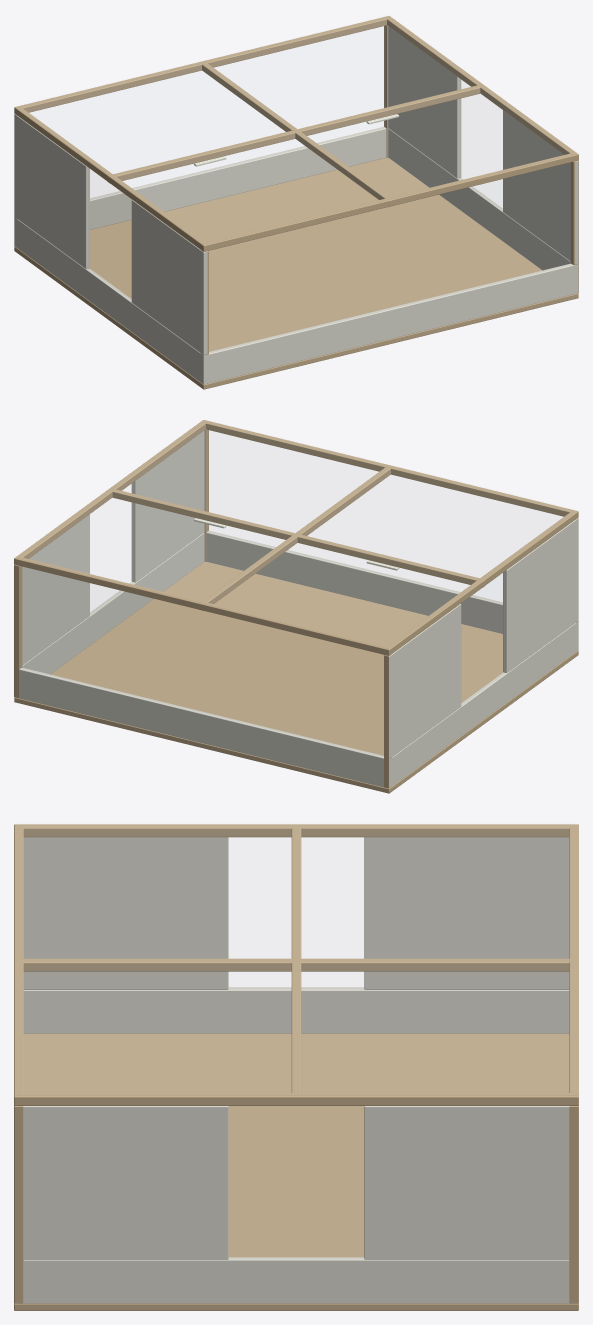
File: tabletop-hobby-store-and-club-roofed-hobby-shop-c9d43426__31565.glb
3 views of the same model, one above another, from view 1: azimuth 30°, elevation 25°; view 2: azimuth 150°, elevation 25°; view 3: azimuth 270°, elevation 25° (orthographic). The views are drawn at different scales.
Visible parts, largest first — view 1: roofed-hobby-shop; view 2: roofed-hobby-shop; view 3: roofed-hobby-shop.
Boxes of the visible parts, x1=… form: roofed-hobby-shop: x1=14, y1=15, x2=578, y2=389; roofed-hobby-shop: x1=14, y1=420, x2=578, y2=793; roofed-hobby-shop: x1=14, y1=824, x2=578, y2=1310.
Bounding box in the file's own units: 8 × 2.96 × 7.
